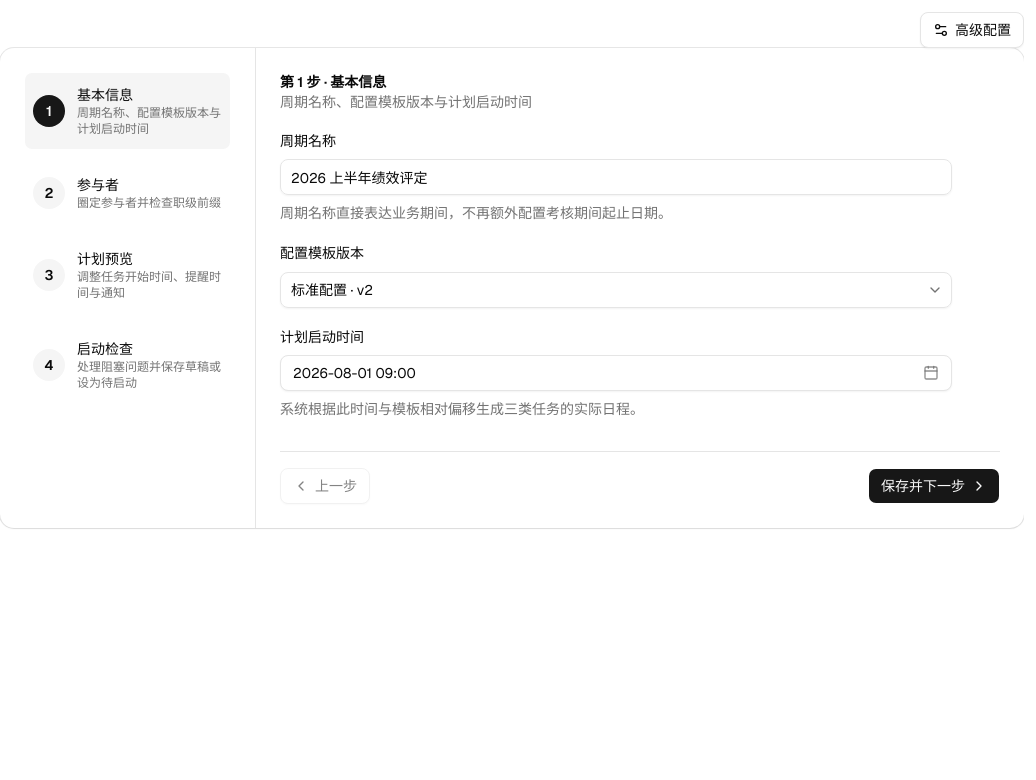
it: CycleSetupEditor › 计划预览只展示三类任务，并明确提醒时间是软截止
The image size is (1036, 780).
Click the button "3 计划预览 调整任务开始时间、提醒时间与通知": (128, 275) [24,236,231,314]
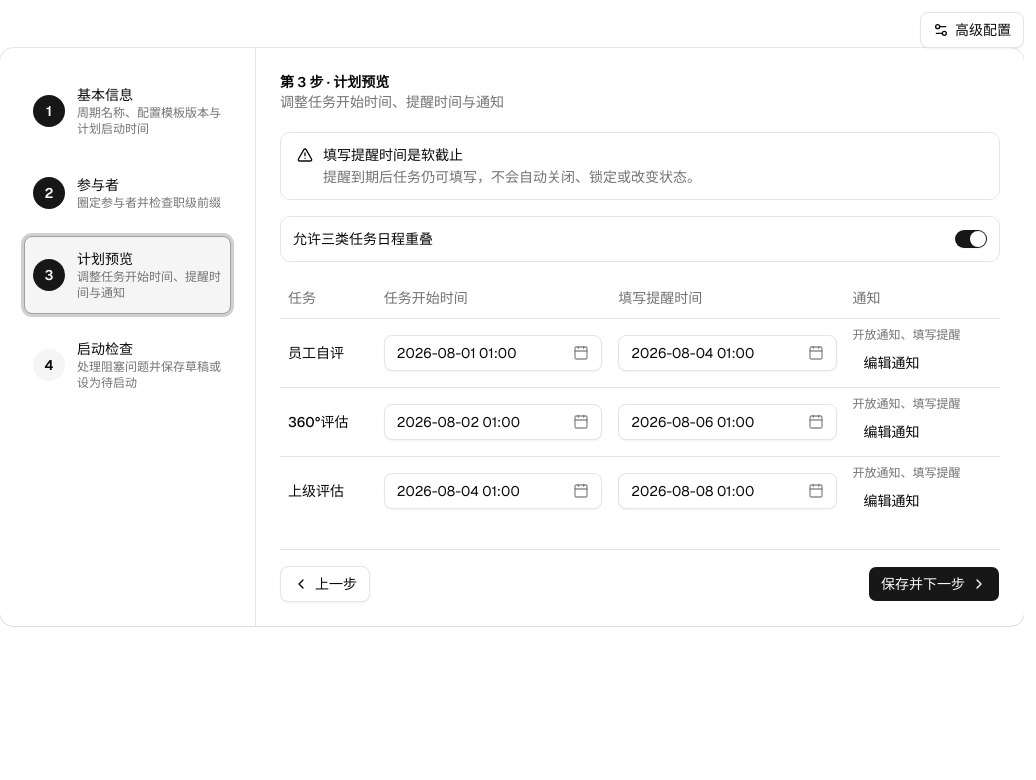
expect the text "员工自评" is shown: met, box [288,344,344,362]
expect the text "360°评估" is shown: met, box [288,412,348,430]
expect the text "上级评估" is shown: met, box [288,482,344,500]
